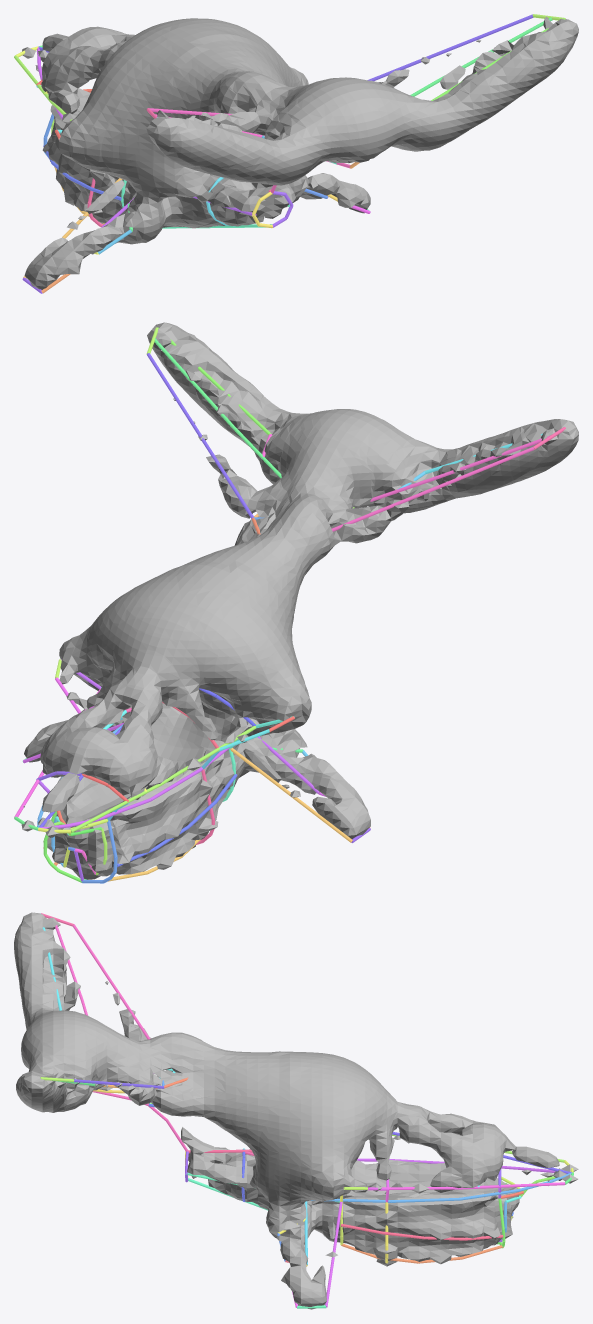
The model's file is ils_spacecraft_29.gltf.
The picture shows the model from 3 angles, top to bottom: view 1: azimuth 30°, elevation 25°; view 2: azimuth 150°, elevation 25°; view 3: azimuth 270°, elevation 25°; orthographic projection. The views are drawn at different scales.
Size of the model in its own units: 0.5658 by 0.4009 by 0.787.
